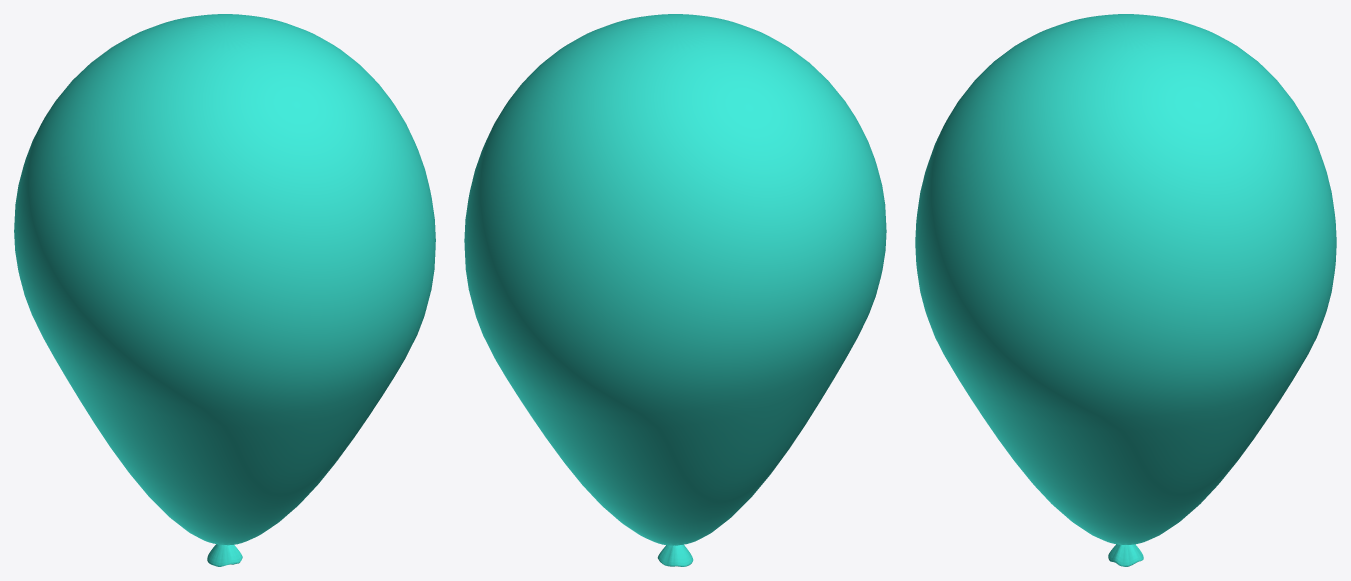
Rendered from BalloonOhneSchnur_türkis.fbx.
The picture shows the model from 3 angles, left to right: view 1: azimuth 30°, elevation 25°; view 2: azimuth 150°, elevation 25°; view 3: azimuth 270°, elevation 25°; orthographic projection.
Parts seen in each view (by area): view 1: Sphere, Cone; view 2: Sphere, Cone; view 3: Sphere, Cone.
Boxes of the visible parts, left/top/right/bottom form: Sphere: left=14, top=14, right=435, bottom=545; Cone: left=207, top=544, right=242, bottom=566; Sphere: left=464, top=14, right=886, bottom=545; Cone: left=657, top=544, right=693, bottom=566; Sphere: left=915, top=14, right=1336, bottom=544; Cone: left=1108, top=544, right=1143, bottom=566.
Size of the model in its own units: 197 by 272 by 197.
